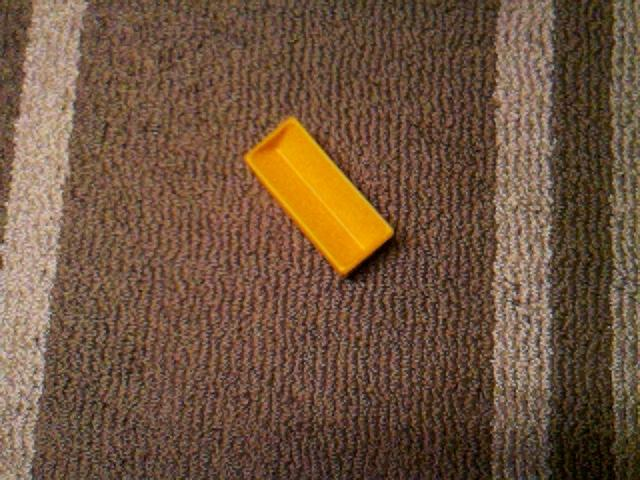yellow: (243, 116, 396, 279)
